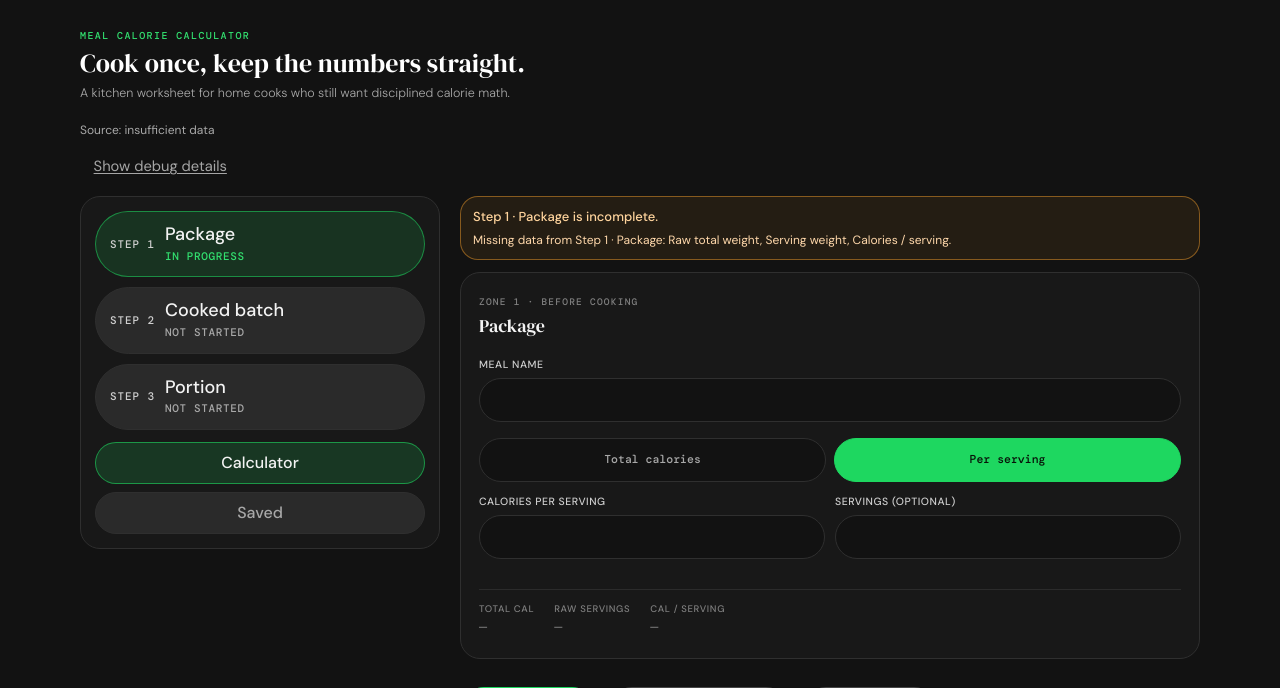
ZoneLayout › does not render Servings (optional) in Zone 3 when mode is perServing
The width and height of the screenshot is (1280, 688).
Click the button "Step 3 Portion Not started". click: {"x": 132, "y": 396}
box: x1=95 y1=364 x2=425 y2=430
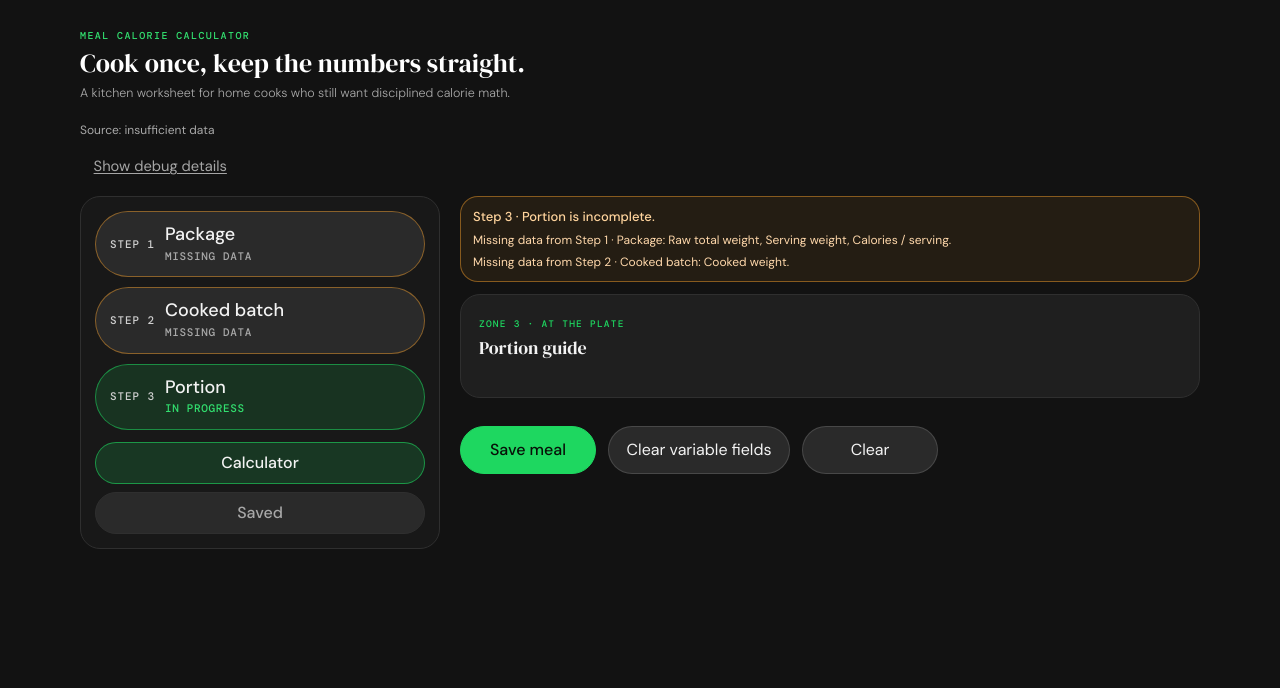
Check: the label labelled "Servings (optional)" is gone
